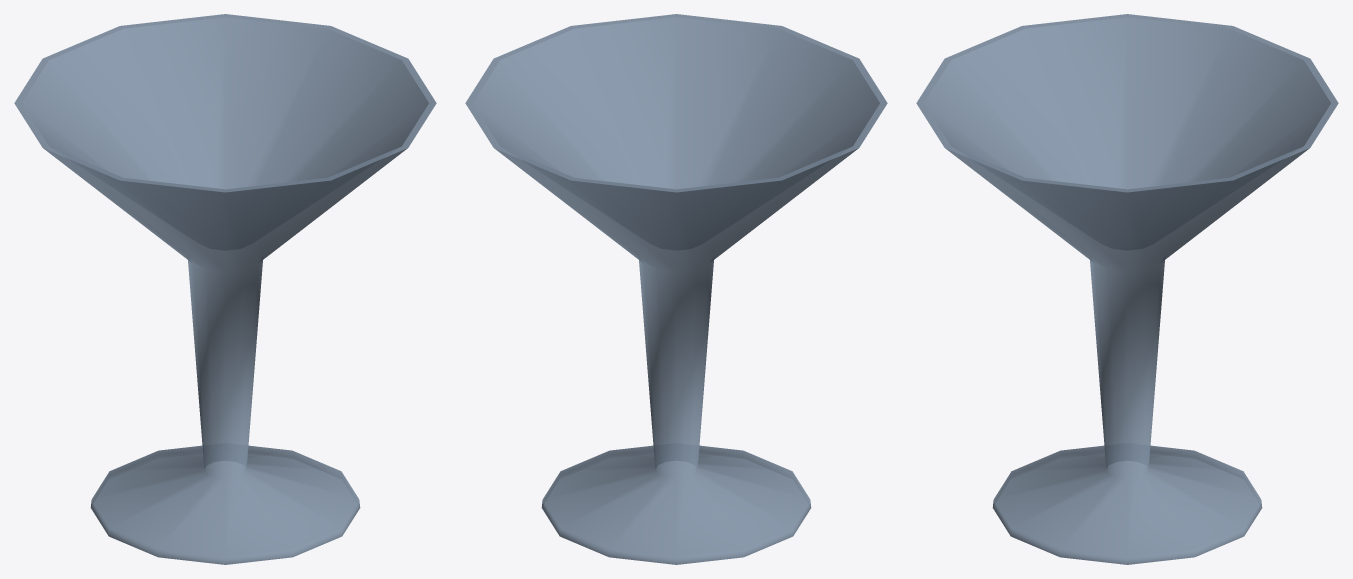
File: mesh_glass_03.fbx
The picture shows the model from 3 angles, left to right: view 1: azimuth 30°, elevation 25°; view 2: azimuth 150°, elevation 25°; view 3: azimuth 270°, elevation 25°; orthographic projection.
Visible parts, largest first — view 1: mesh_glass_03; view 2: mesh_glass_03; view 3: mesh_glass_03.
Boxes of the visible parts, box(x1,y1,x2,y2) form: mesh_glass_03: box(14, 14, 436, 564); mesh_glass_03: box(465, 14, 887, 564); mesh_glass_03: box(916, 14, 1338, 564).
Bounding box in the file's own units: 0.1547 × 0.1635 × 0.1547.
